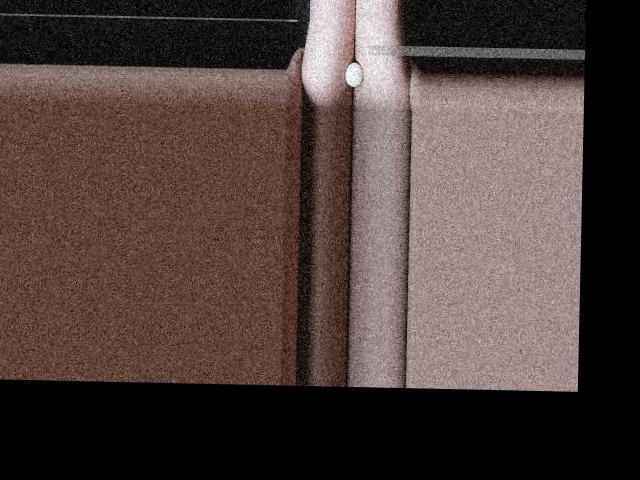egg: (345, 61, 363, 86)
